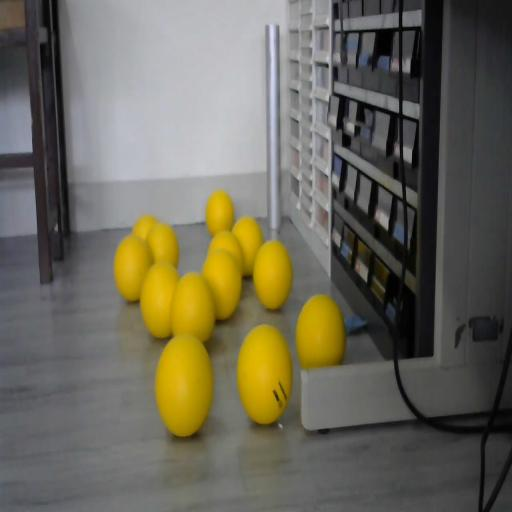FUEL: (154, 332, 214, 435), (236, 322, 294, 423), (294, 294, 346, 370), (140, 260, 180, 338), (202, 248, 242, 320), (252, 239, 293, 309), (113, 234, 152, 301), (231, 216, 264, 276), (145, 221, 180, 270), (206, 190, 234, 235)
